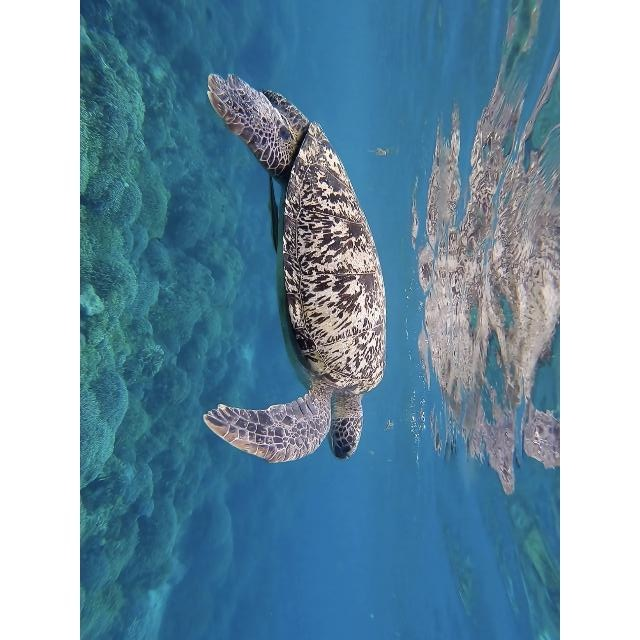turtle: (204, 72, 388, 466)
